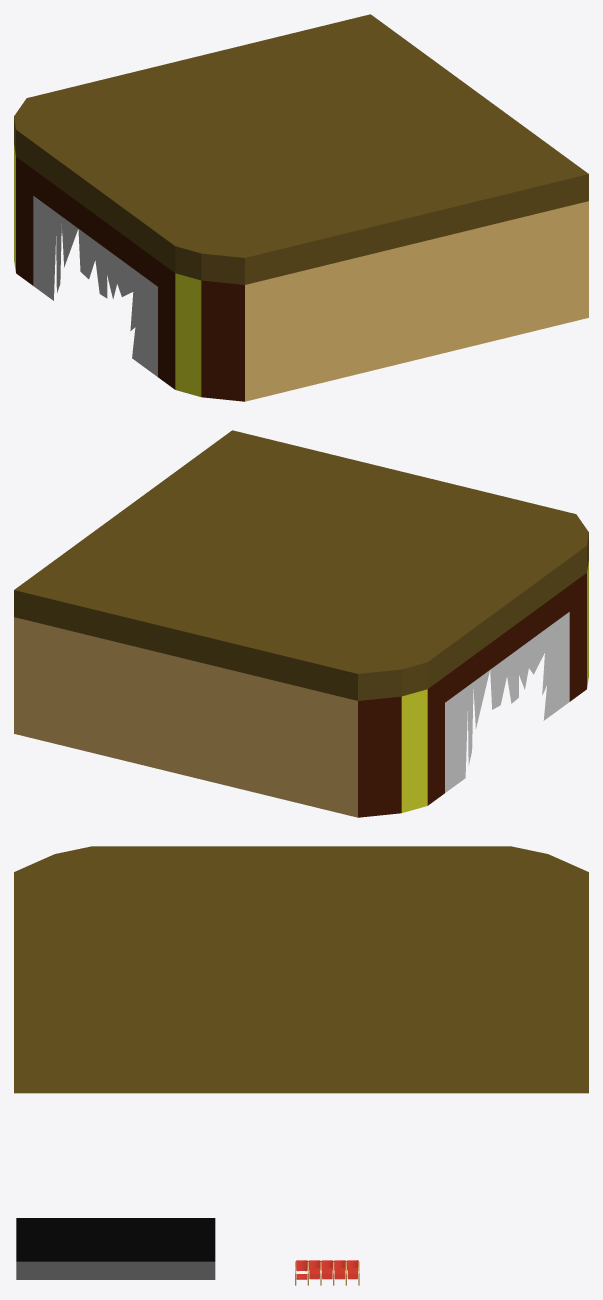
The model's file is kino scala.fbx.
3 views of the same model, one above another, from view 1: azimuth 30°, elevation 25°; view 2: azimuth 150°, elevation 25°; view 3: azimuth 270°, elevation 25° (orthographic). The views are drawn at different scales.
Parts seen in each view (by area): view 1: Plane; view 2: Plane; view 3: Plane, scala, sedačka.
Boxes of the visible parts, left/top/right/bottom form: Plane: left=14, top=14, right=588, bottom=401; Plane: left=14, top=430, right=588, bottom=817; Plane: left=14, top=846, right=588, bottom=1093; scala: left=16, top=1218, right=215, bottom=1279; sedačka: left=295, top=1260, right=358, bottom=1285.
Bounding box in the file's own units: 3053 × 1074 × 2955.
